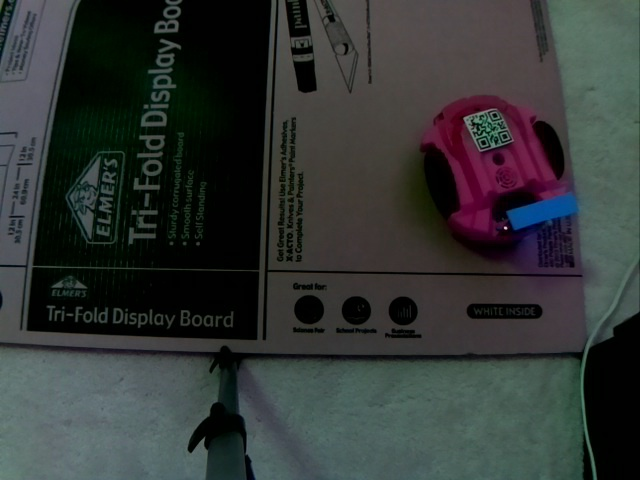chassis: (414, 92, 575, 255)
qr: (458, 105, 516, 155)
